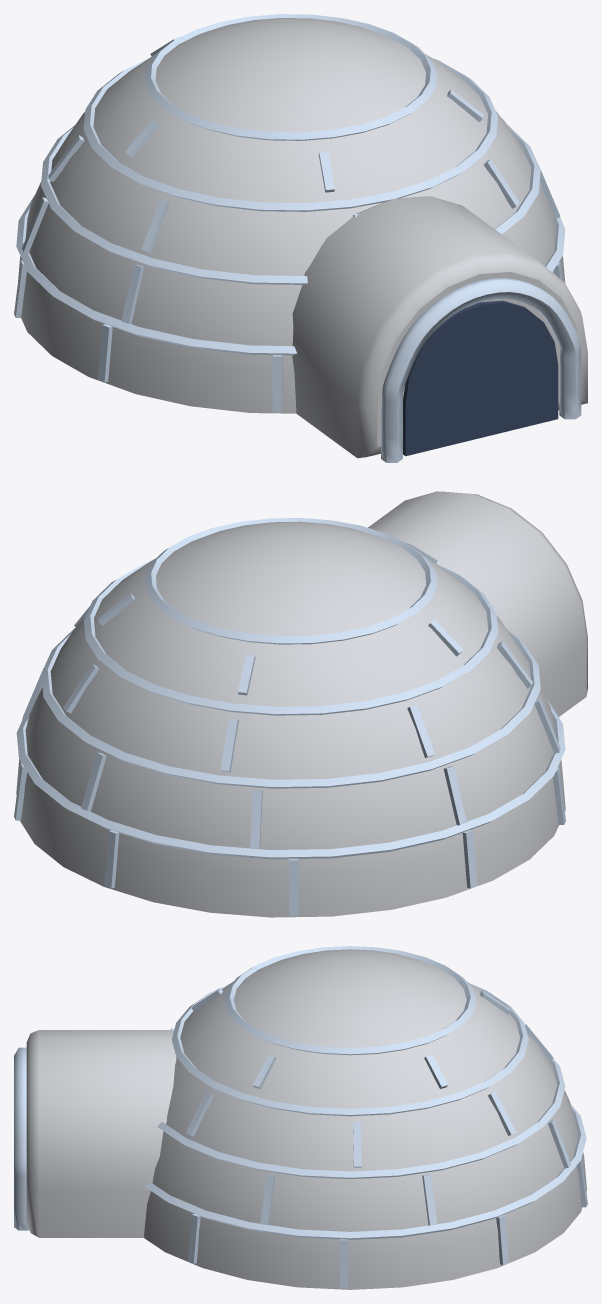
File: igloo.glb
3 views of the same model, one above another, from view 1: azimuth 30°, elevation 25°; view 2: azimuth 150°, elevation 25°; view 3: azimuth 270°, elevation 25° (orthographic). The views are drawn at different scales.
Visible parts, largest first — view 1: igloo; view 2: igloo; view 3: igloo.
Part boxes in pixels (x1=…): igloo: x1=14, y1=14, x2=587, y2=462; igloo: x1=14, y1=491, x2=587, y2=917; igloo: x1=14, y1=946, x2=587, y2=1289.
Bounding box in the file's own units: 3.03 × 1.53 × 3.64.
